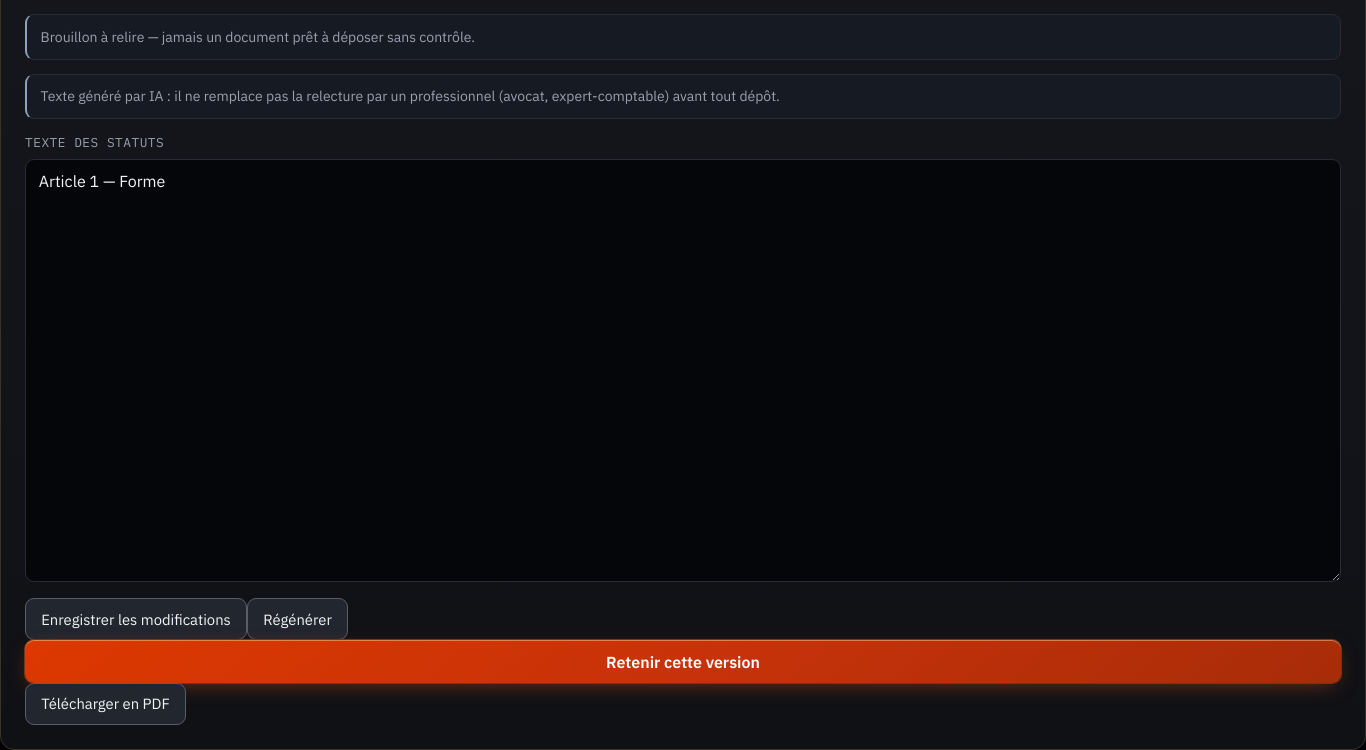
Scenario: StatutsSection › avec des statuts existants › retient la version : POST retenir puis passage en lecture seule
(page scrolled)
Click the button "Retenir cette version" at (683, 662), box top-left (25, 640), bottom-right (1341, 683)
(page scrolled)
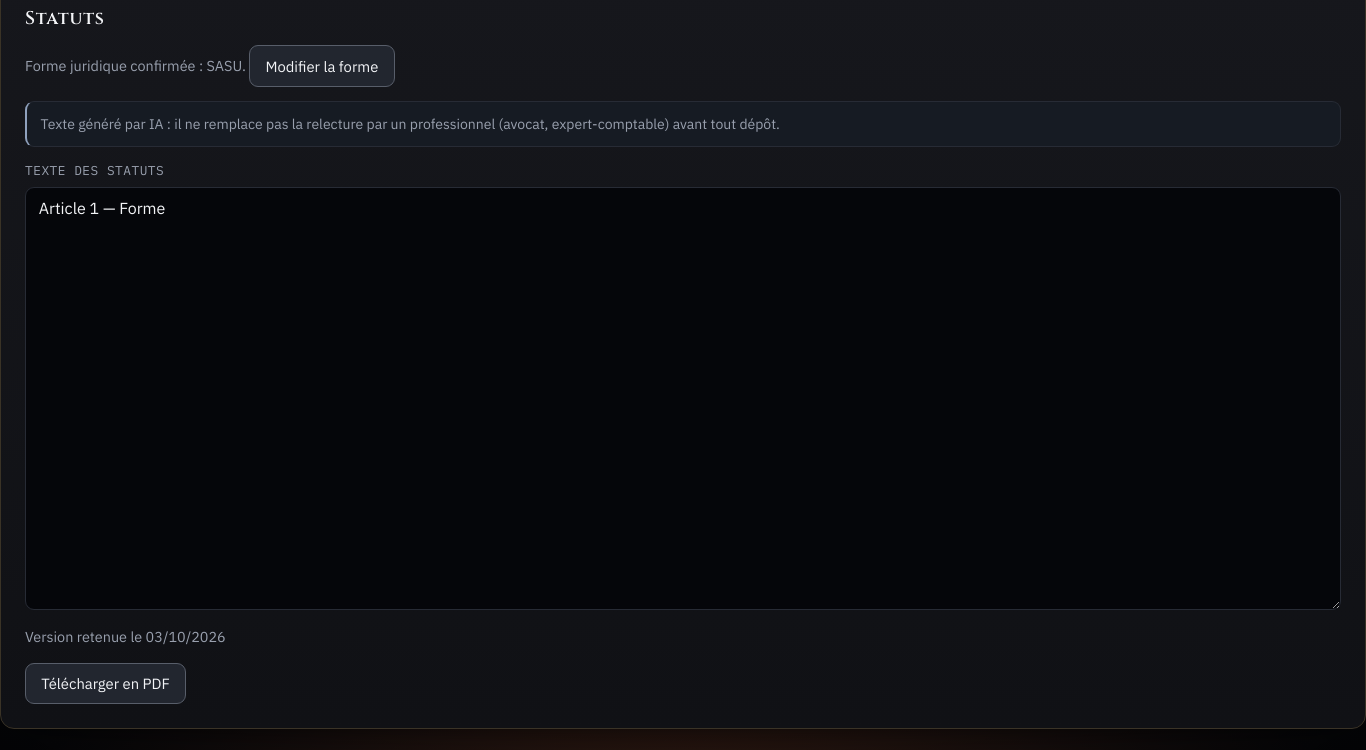
expect the text "Version retenue le 03/10/2026" is shown: met, box top-left (25, 627), bottom-right (226, 646)
expect the button "Retenir cette version" is gone: met
